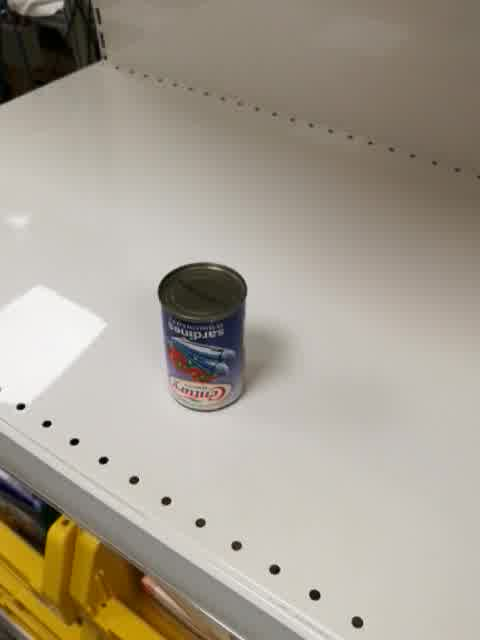sardine: (157, 260, 249, 414)
